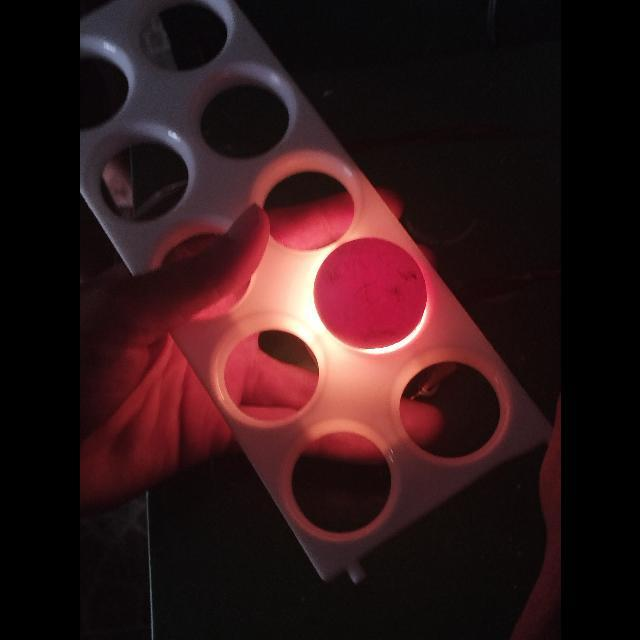Infertile: (310, 236, 428, 352)
